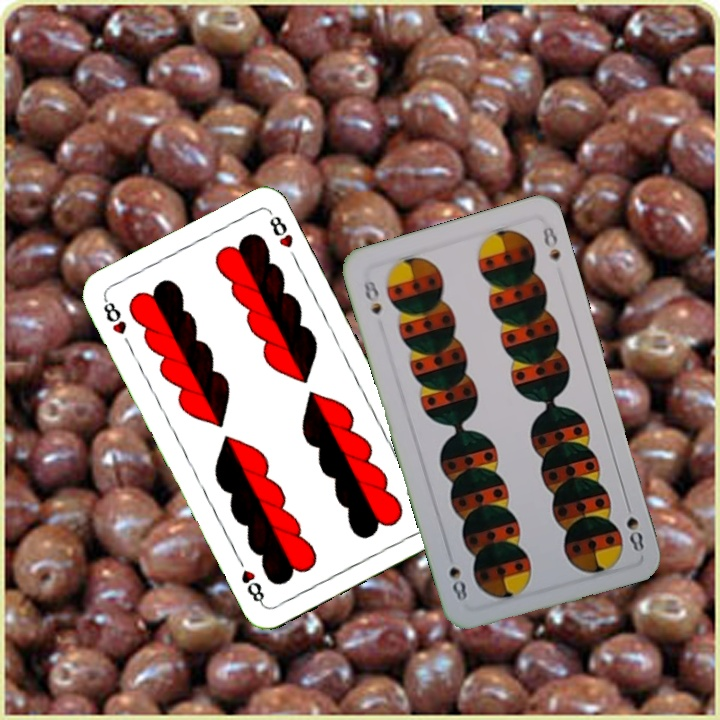H8: (99, 294, 129, 338)
S8: (359, 276, 385, 318), (622, 513, 647, 555)
